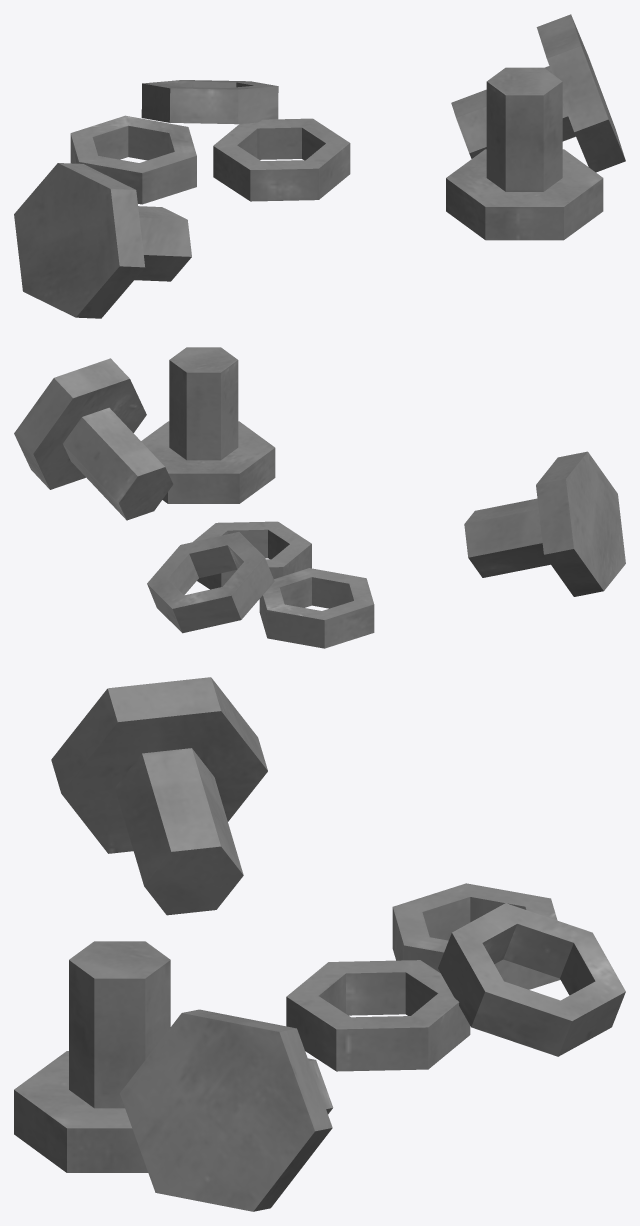
The model's file is SM_Bolts_2.fbx.
3 renders of one model, top to bottom at view 1: azimuth 30°, elevation 25°; view 2: azimuth 150°, elevation 25°; view 3: azimuth 270°, elevation 25°, orthographic. The views are drawn at different scales.
Visible parts, largest first — view 1: Cylinder.001; view 2: Cylinder.001; view 3: Cylinder.001.
Boxes of the visible parts, x1,y1,x2,y2 form: Cylinder.001: (14,14,625,318); Cylinder.001: (14,347,625,648); Cylinder.001: (14,677,625,1211).
Bounding box in the file's own units: 38.39 × 7.85 × 24.75.
